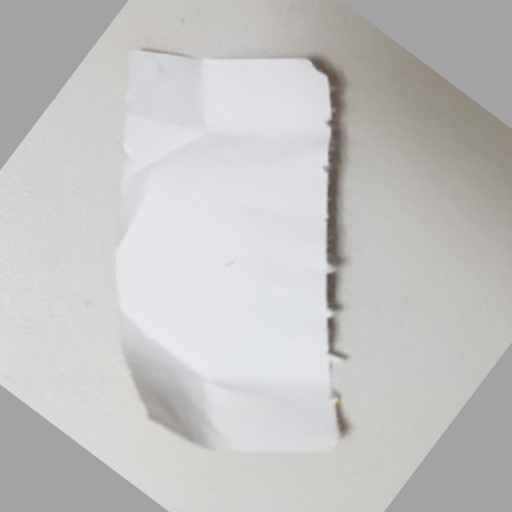Paper_3: (96, 47, 352, 467)
